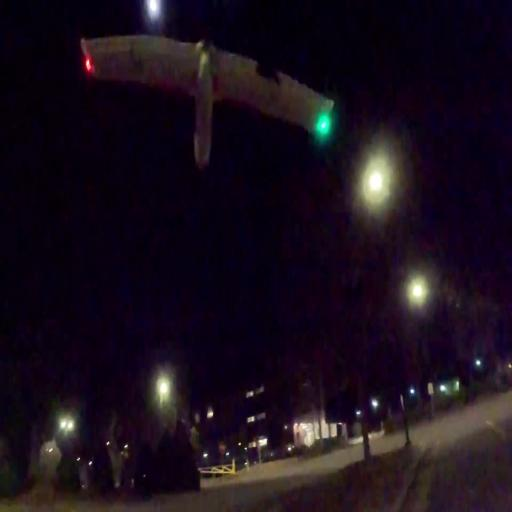uav: (72, 0, 339, 176)
